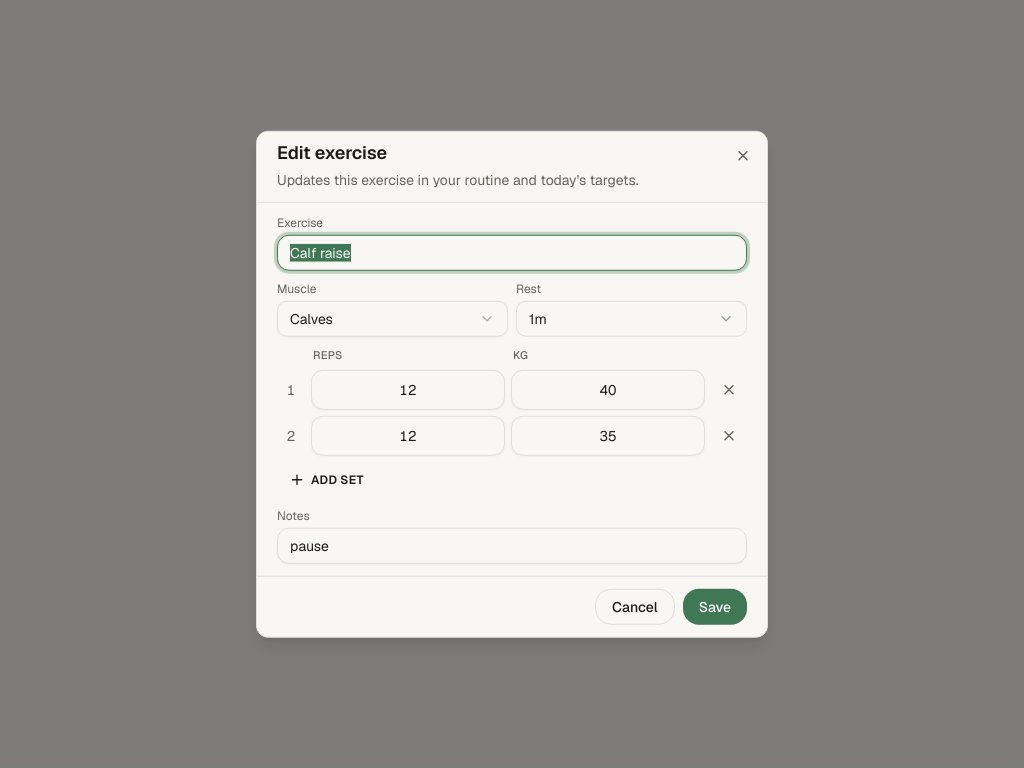
it: EditExerciseDialog › does not submit an empty name
The image size is (1024, 768).
Clear the field labelled "Exercise" at (512, 253), box [277, 235, 747, 271]
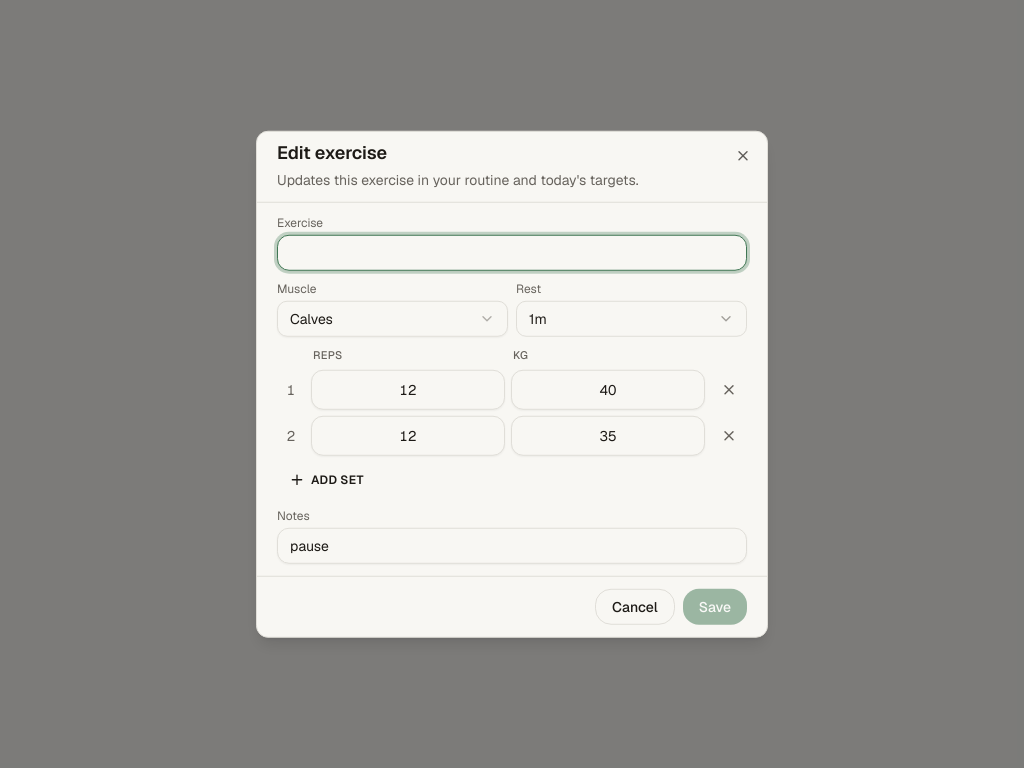
Now the button "Save" is disabled, box [683, 588, 747, 624]
